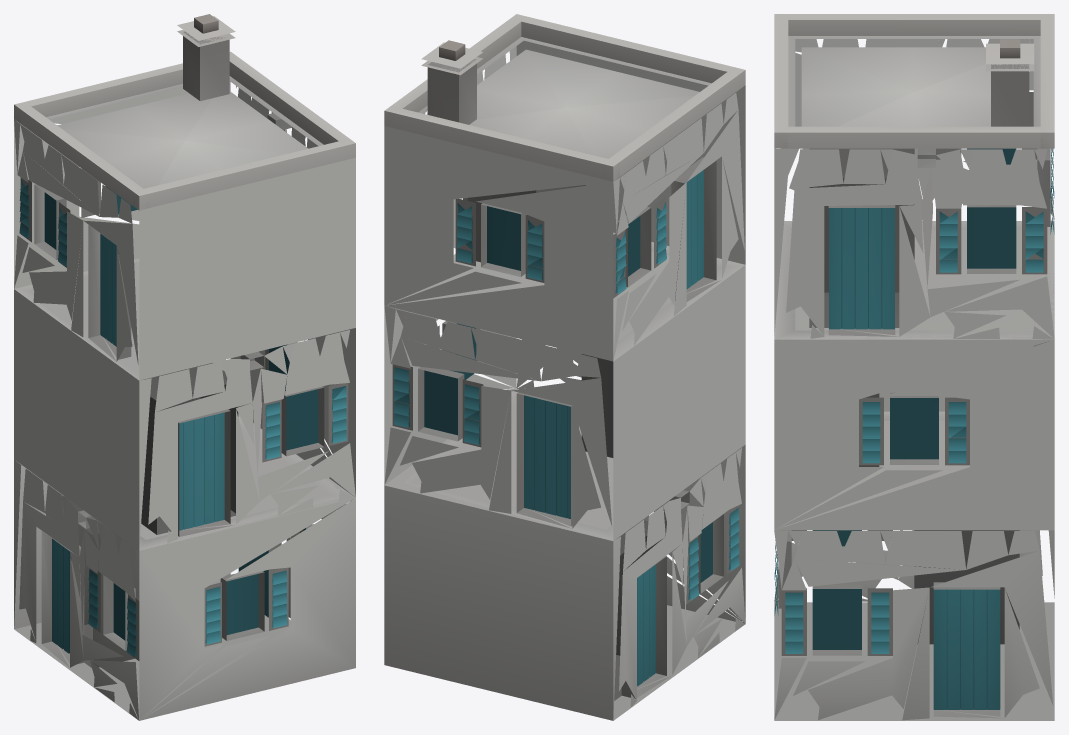
3 renders of one model, left to right at view 1: azimuth 30°, elevation 25°; view 2: azimuth 150°, elevation 25°; view 3: azimuth 270°, elevation 25°, orthographic. The views are drawn at different scales.
Parts seen in each view (by area): view 1: cube3; view 2: cube3; view 3: cube3.
Boxes of the visible parts, x1,y1,x2,y2 form: cube3: (14, 14, 355, 720); cube3: (384, 14, 745, 720); cube3: (774, 14, 1054, 720).
Size of the model in its own units: 4.4 by 11.3 by 4.4.
